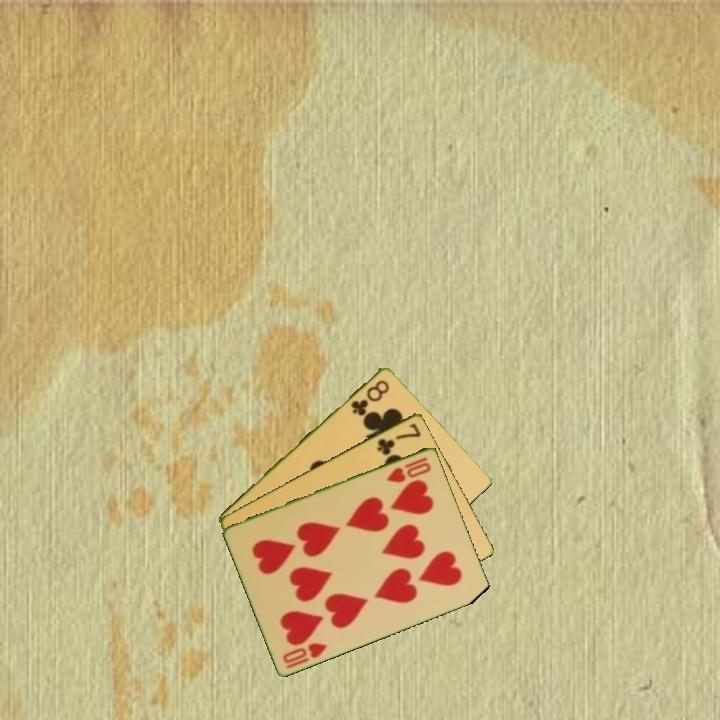10h: (383, 453, 434, 485), (279, 639, 330, 671)
7c: (373, 419, 424, 458)
8c: (347, 376, 392, 419)
